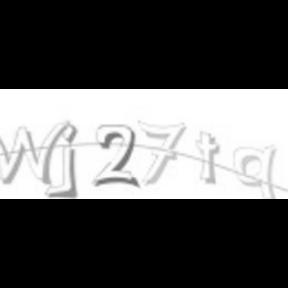2: (91, 123, 139, 189)
7: (136, 119, 186, 187)
W: (0, 120, 70, 184)
j: (43, 124, 79, 198)
q: (231, 144, 281, 199)
t: (192, 129, 222, 187)
